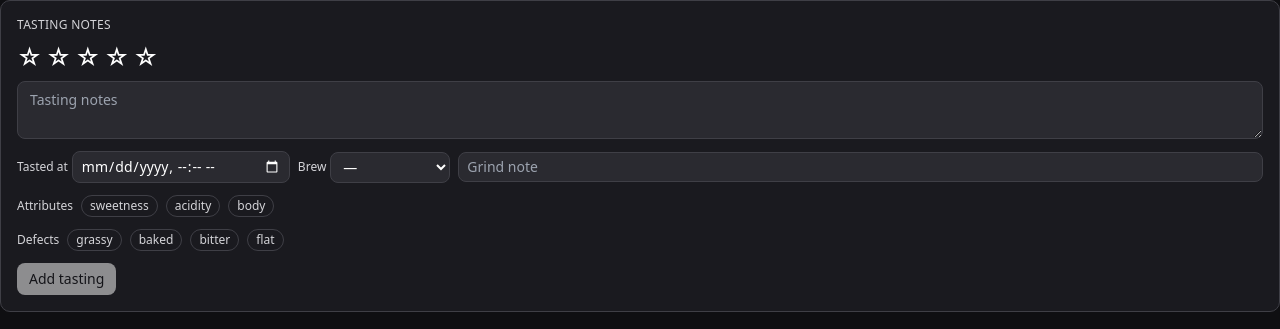
Scenario: RoastTastings › #566: one gesture updates both the tasting corpus and the headline rating › surfaces a partial failure honestly when the tasting saves but the rating update fails — never a false 'Saved.'
Step 1. Click the radio button with test id "tasting-star-5" → (146, 57), box [133,45,158,69]
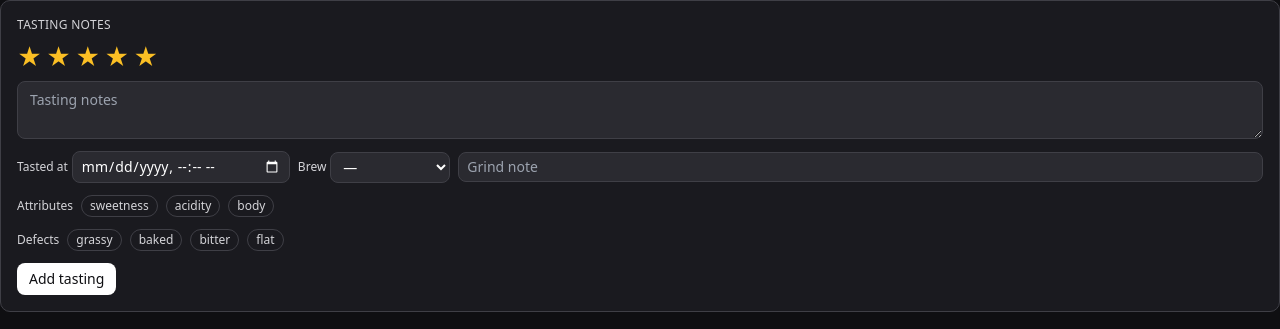
Step 2. Click the button with test id "tasting-save" → (67, 279), box [17,263,116,295]
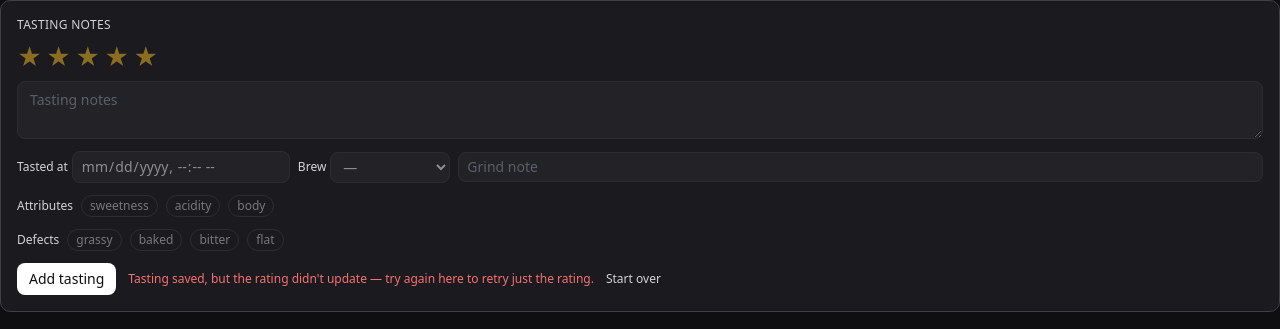
Now the text with test id "rating-partial-error" is shown, box [128,271,594,287]
Now the text with test id "rating-partial-error" shows "try again here", box [128,270,594,287]
